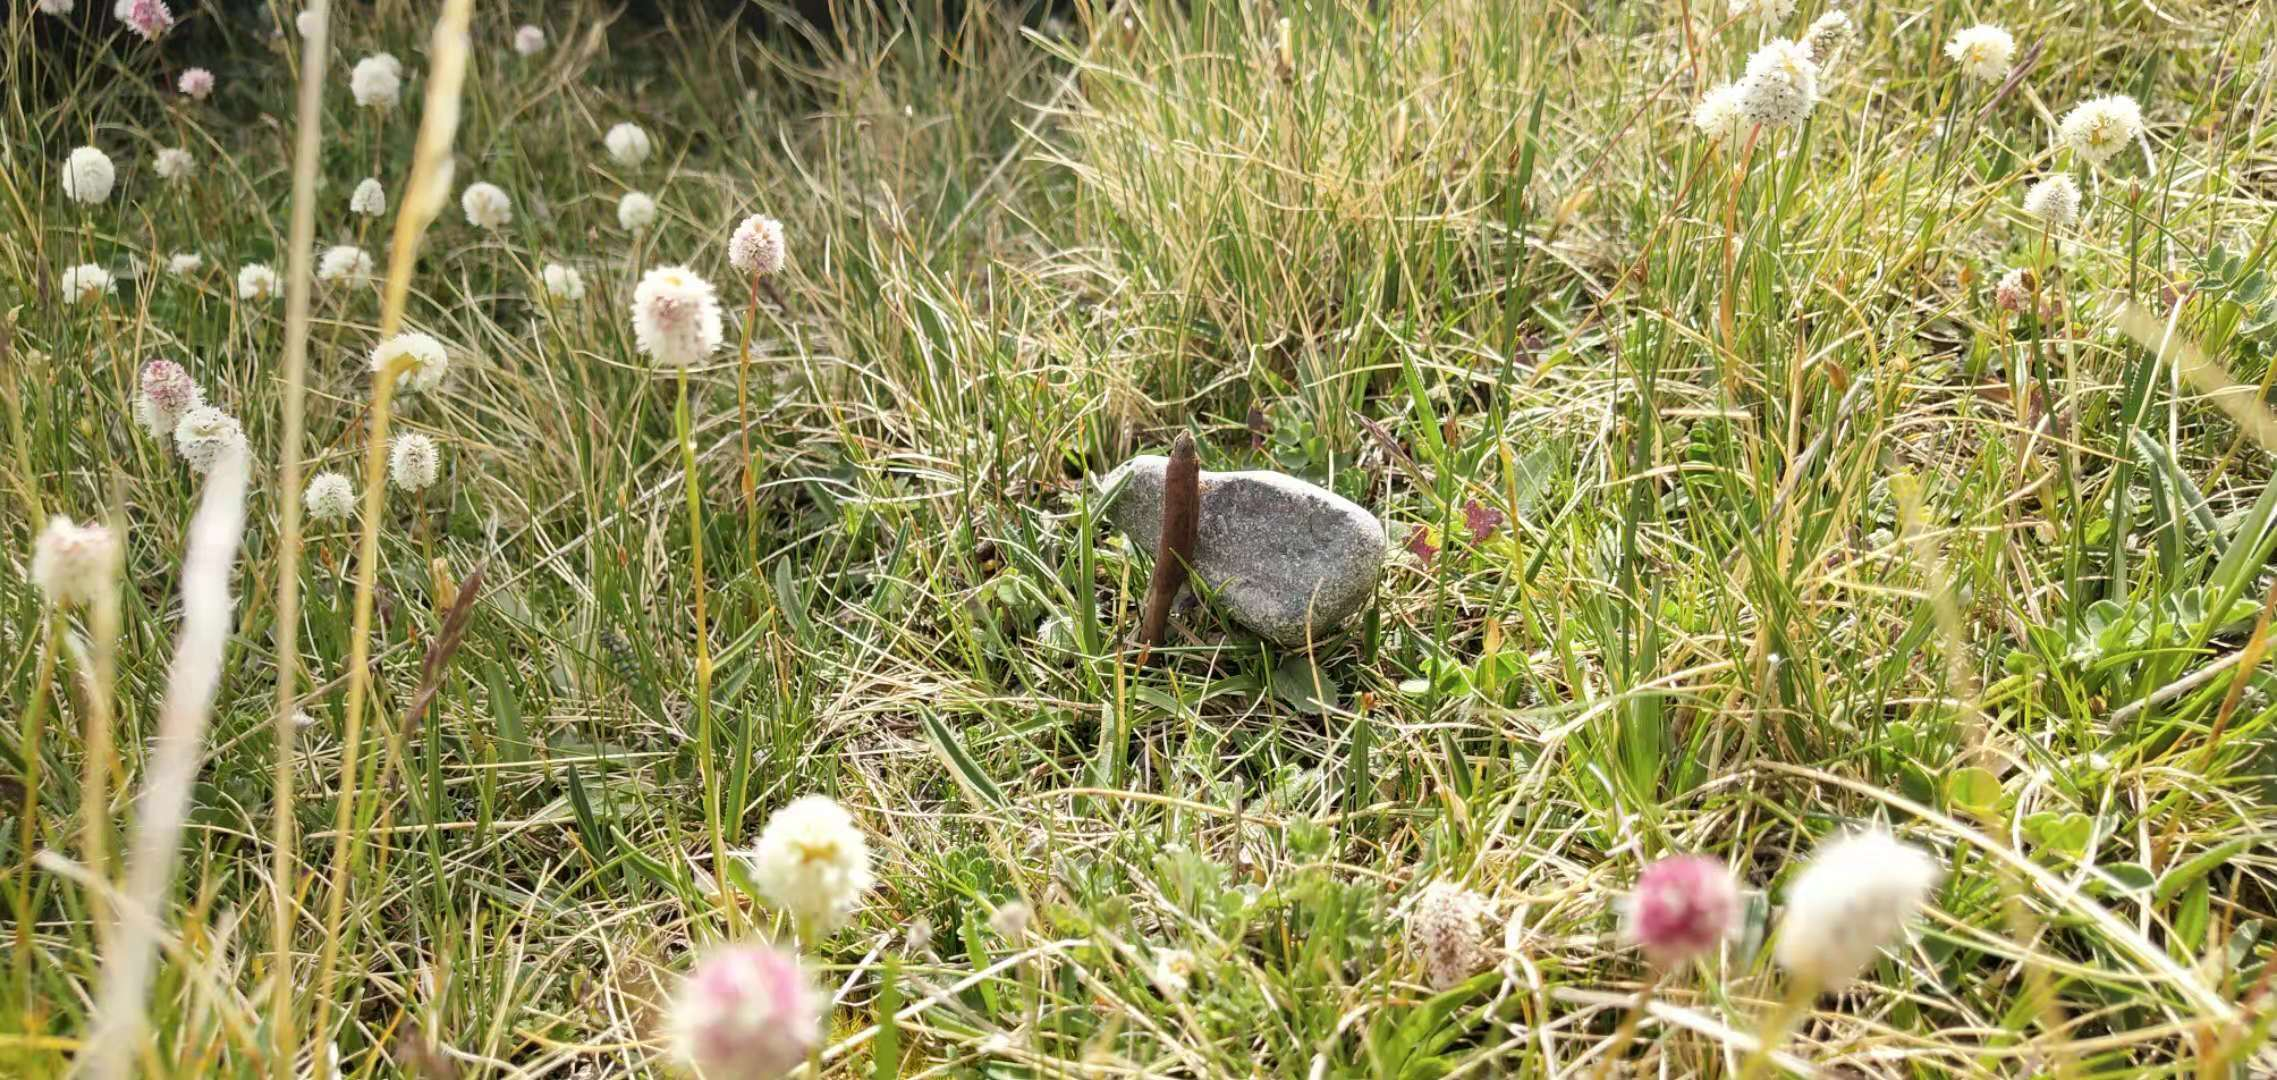Chongcao: (1141, 425, 1201, 649)
